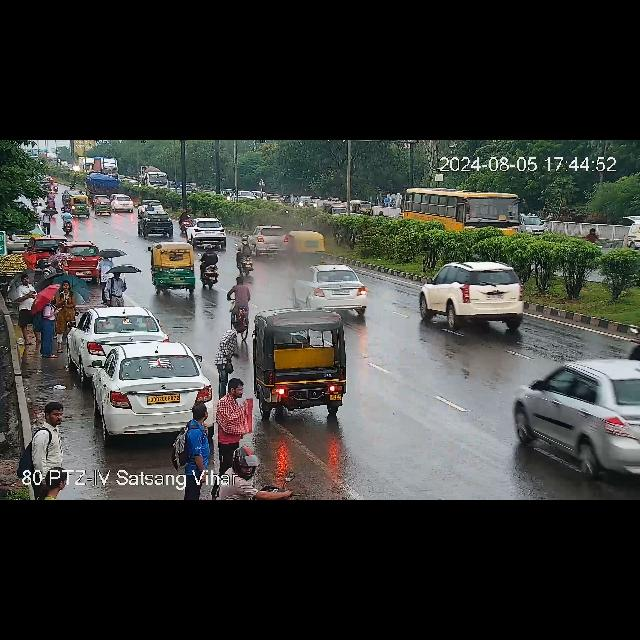bus: (399, 190, 527, 238)
car: (520, 361, 640, 481), (76, 343, 220, 435), (254, 315, 350, 415), (419, 262, 535, 328), (64, 306, 166, 366), (298, 266, 376, 312), (152, 243, 204, 294), (186, 217, 228, 250), (289, 230, 327, 262), (65, 240, 97, 278), (252, 225, 288, 252), (134, 216, 176, 237), (30, 232, 66, 252), (520, 214, 548, 234), (68, 195, 90, 217), (110, 197, 138, 211), (352, 200, 374, 216), (324, 202, 348, 215), (92, 202, 114, 216), (296, 197, 316, 209), (62, 188, 72, 206), (264, 193, 282, 201)
motorcycle: (229, 275, 251, 339), (200, 246, 222, 286), (232, 242, 254, 274), (586, 225, 602, 242), (180, 209, 190, 233), (304, 200, 308, 208)
person: (28, 400, 74, 472), (178, 403, 212, 483), (220, 381, 256, 452), (100, 260, 130, 308), (18, 274, 38, 346), (54, 280, 76, 336), (224, 316, 246, 372), (41, 296, 57, 358), (62, 207, 72, 233), (42, 213, 54, 233), (37, 259, 51, 275), (25, 246, 35, 268), (46, 193, 56, 210), (38, 204, 44, 216)
truck: (88, 175, 125, 195), (140, 168, 168, 188), (94, 158, 120, 176), (77, 157, 93, 173)
